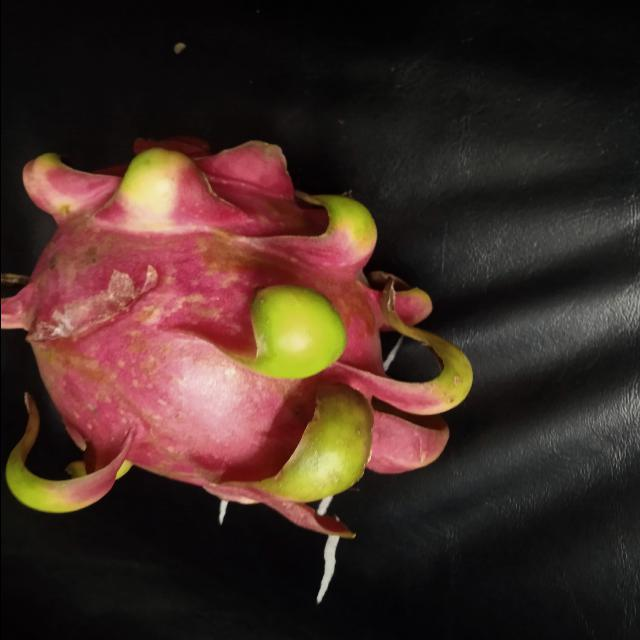do: (1, 133, 475, 542)
